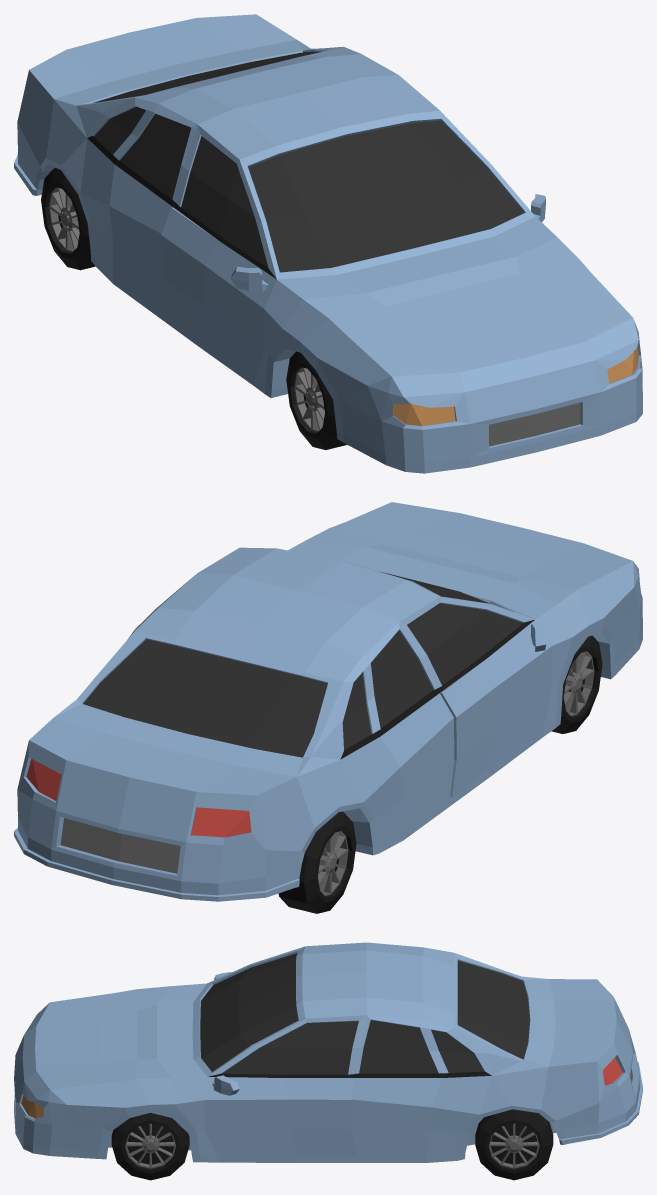
Rendered from car.glb.
3 renders of one model, top to bottom at view 1: azimuth 30°, elevation 25°; view 2: azimuth 150°, elevation 25°; view 3: azimuth 270°, elevation 25°, orthographic. The views are drawn at different scales.
Visible parts, largest first — view 1: NormalCar1, NormalCar1_BackWheels, NormalCar1_FrontRightWheel; view 2: NormalCar1, NormalCar1_BackWheels, NormalCar1_FrontRightWheel; view 3: NormalCar1, NormalCar1_BackWheels, NormalCar1_FrontLeftWheel.
Boxes of the visible parts, bbox=[...] form: NormalCar1: bbox=[14, 14, 642, 473]; NormalCar1_BackWheels: bbox=[41, 168, 95, 270]; NormalCar1_FrontRightWheel: bbox=[286, 351, 346, 449]; NormalCar1: bbox=[14, 502, 642, 901]; NormalCar1_BackWheels: bbox=[278, 811, 356, 913]; NormalCar1_FrontRightWheel: bbox=[551, 635, 602, 733]; NormalCar1: bbox=[14, 942, 642, 1162]; NormalCar1_BackWheels: bbox=[475, 1109, 553, 1180]; NormalCar1_FrontLeftWheel: bbox=[111, 1112, 189, 1180].
Size of the model in its own units: 1.81 by 1.18 by 4.22.
